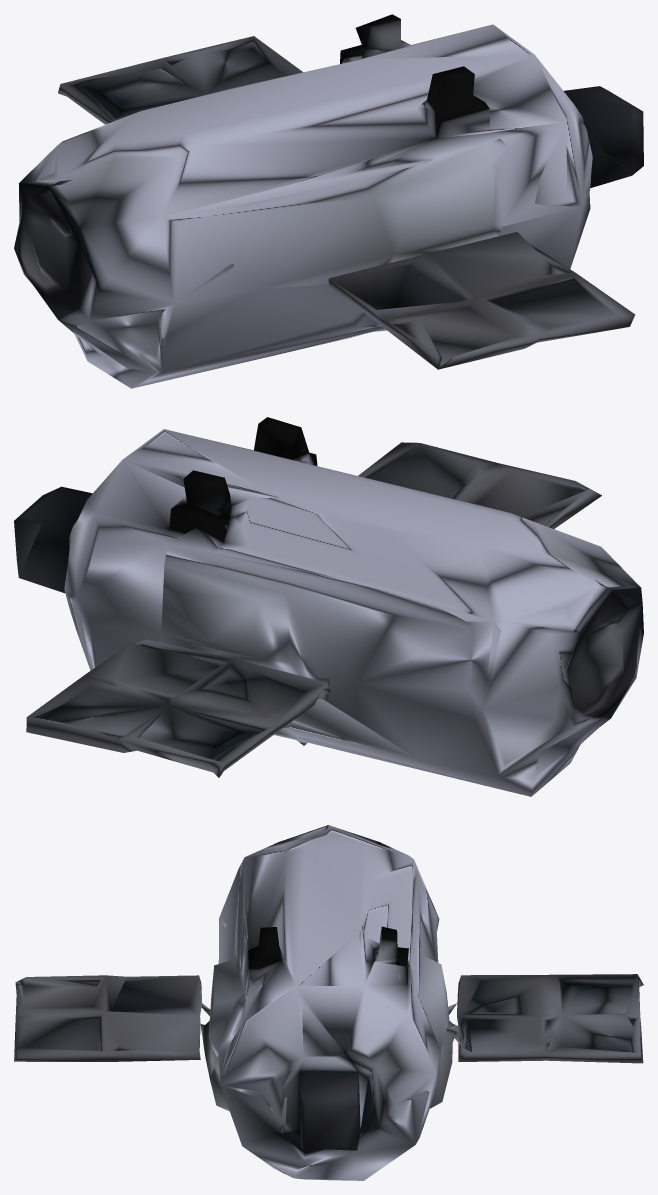
Rendered from gen3d-satellite-lod1.glb.
3 views of the same model, one above another, from view 1: azimuth 30°, elevation 25°; view 2: azimuth 150°, elevation 25°; view 3: azimuth 270°, elevation 25° (orthographic). The views are drawn at different scales.
Visible parts, largest first — view 1: part_0; view 2: part_0; view 3: part_0.
Part boxes in pixels (box(x1,y1,x2,y2)): part_0: box(14, 14, 643, 388); part_0: box(14, 417, 643, 796); part_0: box(14, 825, 643, 1180).
Bounding box in the file's own units: 2.34 × 0.9894 × 2.59.
